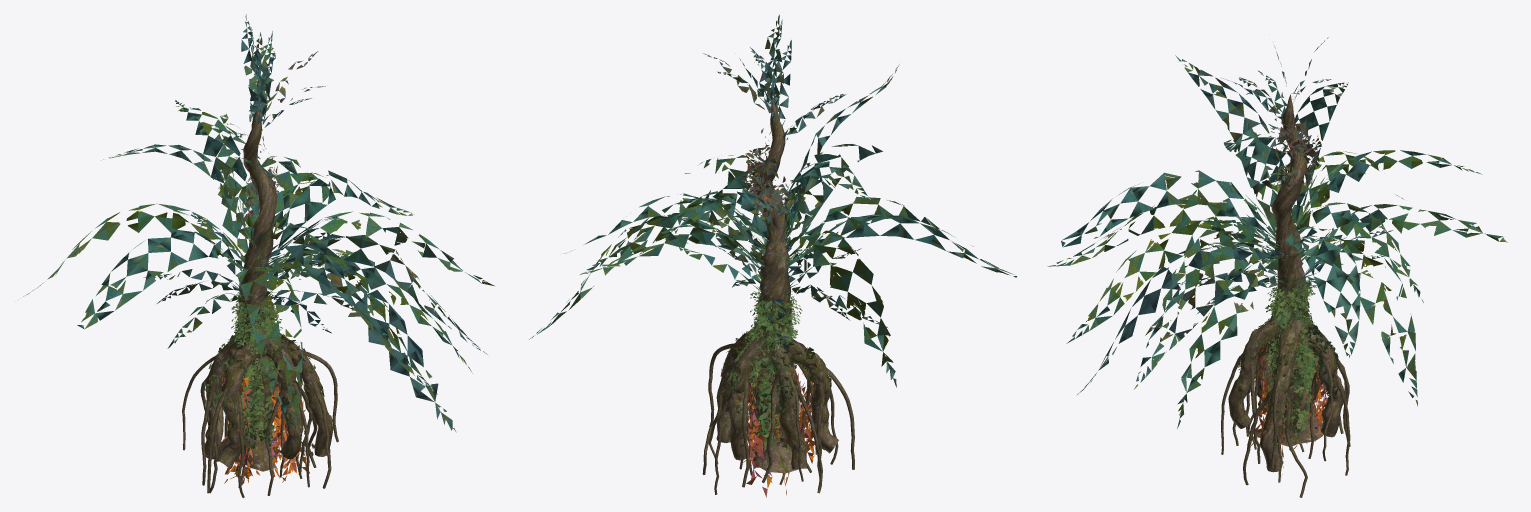
The model's file is Tree - Alien Tree 01 2-Bf9kiyh3.glb.
3 renders of one model, left to right at view 1: azimuth 30°, elevation 25°; view 2: azimuth 150°, elevation 25°; view 3: azimuth 270°, elevation 25°, orthographic. The views are drawn at different scales.
Visible parts, largest first — view 1: Tree_02(Clone), Tree_02_Plants(Clone); view 2: Tree_02(Clone), Tree_02_Plants(Clone); view 3: Tree_02(Clone), Tree_02_Plants(Clone).
Boxes of the visible parts, <box> form: Tree_02(Clone): <box>23,14,494,497</box>; Tree_02_Plants(Clone): <box>204,289,324,456</box>; Tree_02(Clone): <box>529,14,1017,497</box>; Tree_02_Plants(Clone): <box>720,290,831,455</box>; Tree_02(Clone): <box>1047,37,1507,497</box>; Tree_02_Plants(Clone): <box>1236,279,1338,440</box>.
Size of the model in its own units: 10.75 by 11.87 by 11.17.
Materials: 2 (2 with a texture image).
